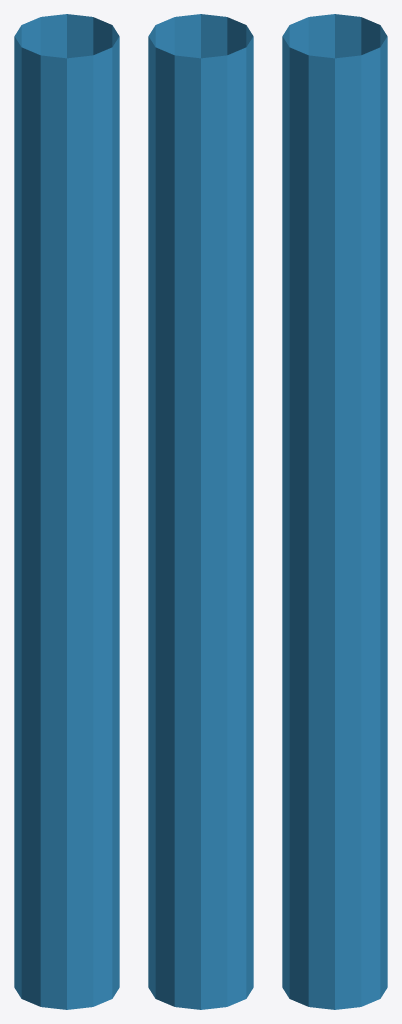
File: Pole.fbx
3 renders of one model, left to right at view 1: azimuth 90°, elevation 25°; view 2: azimuth 210°, elevation 25°; view 3: azimuth 270°, elevation 25°, orthographic.
Parts seen in each view (by area): view 1: ベジエカーブ; view 2: ベジエカーブ; view 3: ベジエカーブ.
Part boxes in pixels (x1=…): ベジエカーブ: x1=14, y1=14, x2=119, y2=1009; ベジエカーブ: x1=148, y1=14, x2=253, y2=1009; ベジエカーブ: x1=282, y1=14, x2=387, y2=1009.
Size of the model in its own units: 40 by 400 by 40.
